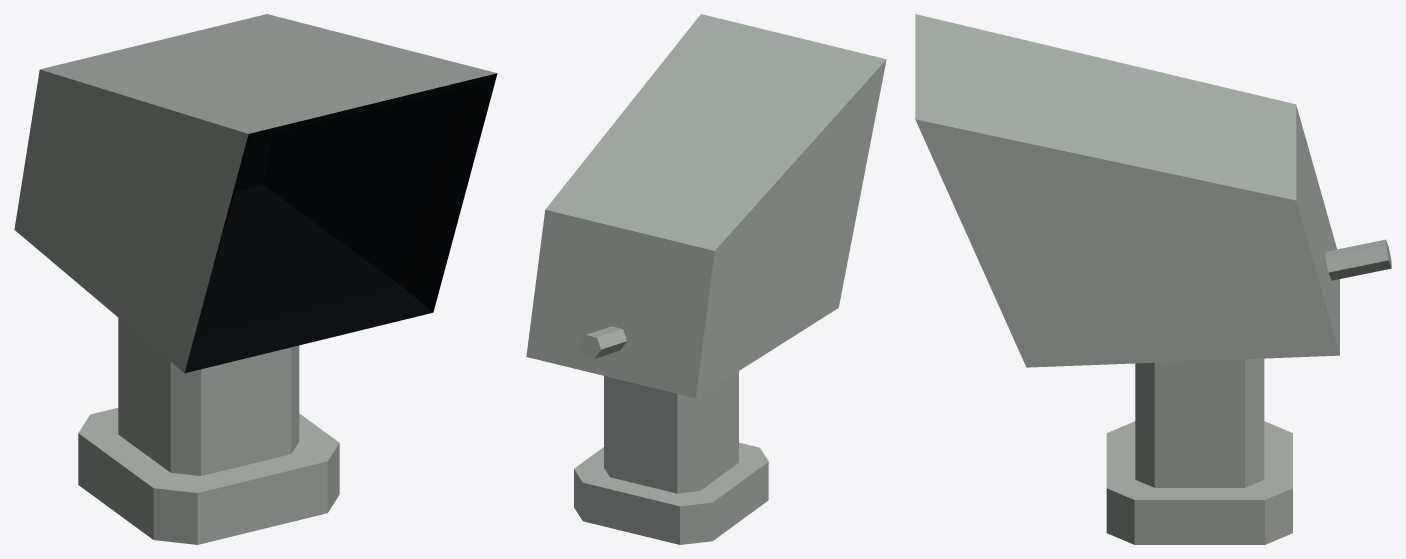
File: canion.fbx
3 views of the same model, side by side, from view 1: azimuth 30°, elevation 25°; view 2: azimuth 150°, elevation 25°; view 3: azimuth 270°, elevation 25° (orthographic). The views are drawn at different scales.
Parts seen in each view (by area): view 1: pCube5; view 2: pCube5; view 3: pCube5.
Boxes of the visible parts, x1=… form: pCube5: x1=14, y1=14, x2=497, y2=544; pCube5: x1=526, y1=14, x2=886, y2=544; pCube5: x1=915, y1=14, x2=1391, y2=544.
Bounding box in the file's own units: 1.93 × 3.76 × 3.69.
